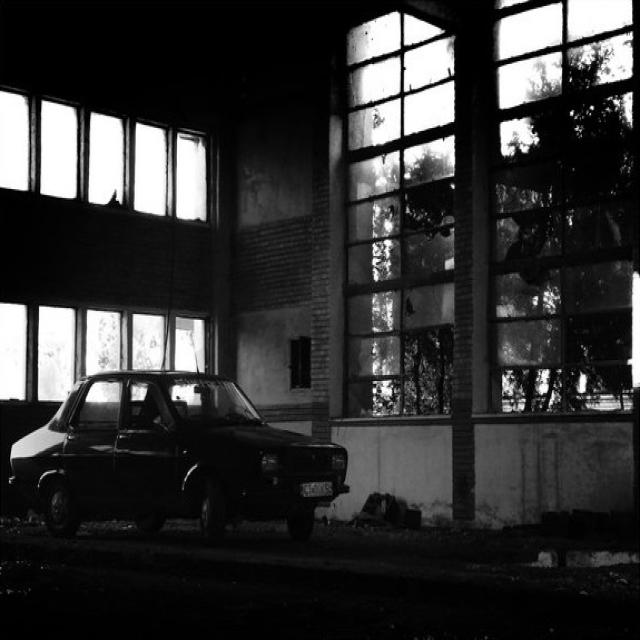Car: (23, 344, 346, 570)
